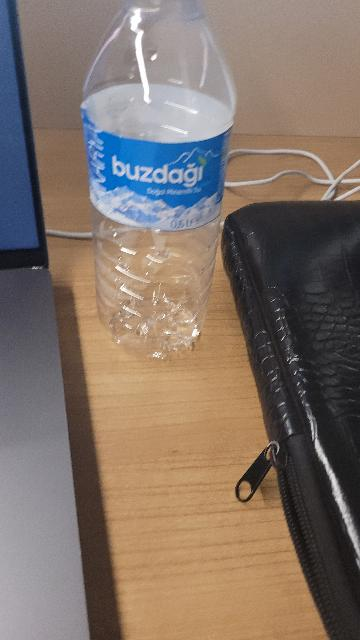Metal: (227, 439, 289, 510)
Plastik: (82, 0, 218, 361)
